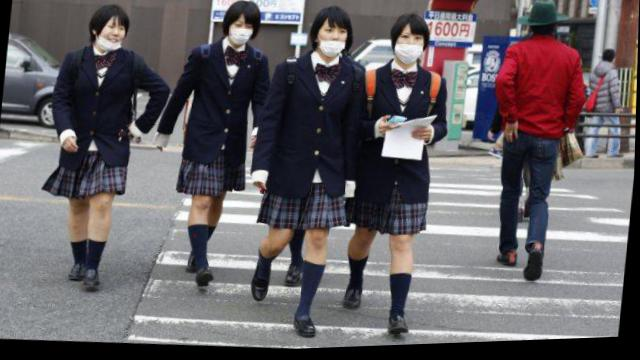OK: (226, 18, 255, 50)
WRONG: (390, 33, 425, 69), (317, 23, 352, 58), (98, 19, 127, 54)
